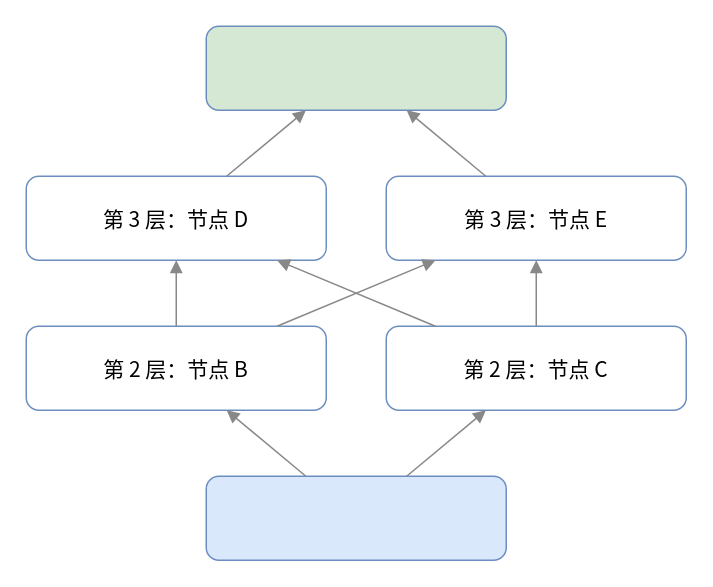
Some shapes in this 713 by 587 pixel diagram are drawn without their labels. Here are the shapes that lost their labels. From the top down, the centre of each, then its label:
At (x=355, y=67): "第 4 层：目标".
At (x=355, y=517): "第 1 层：节点 A".
